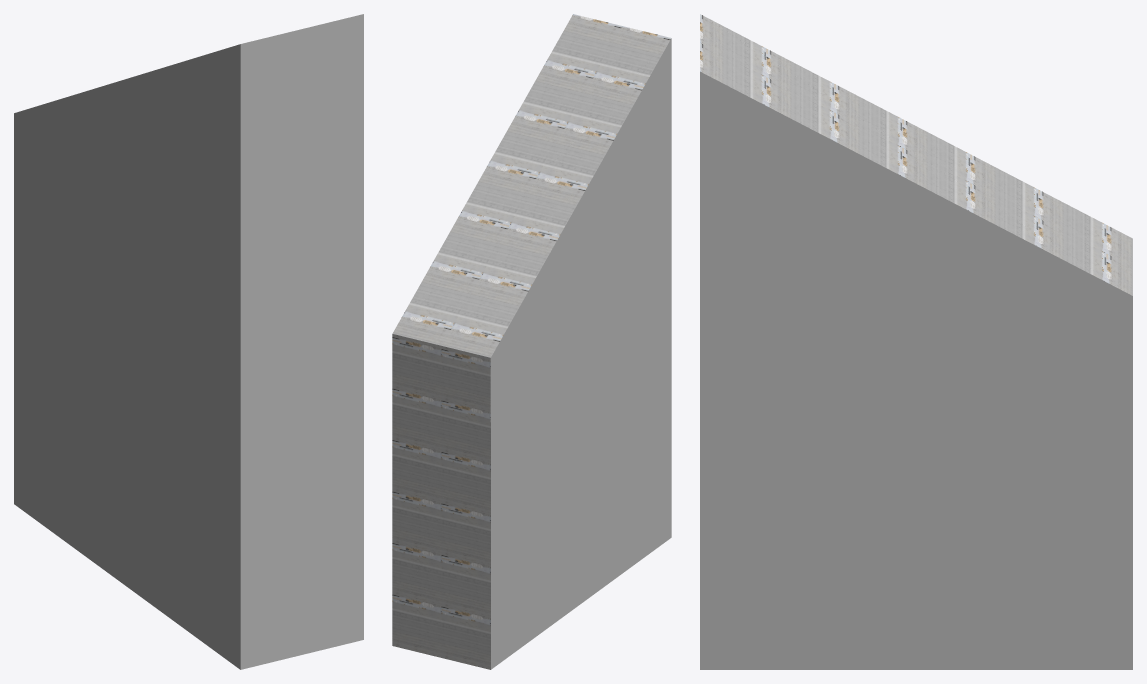
The model's file is Brush_2_AsStaticMesh.fbx.
3 renders of one model, left to right at view 1: azimuth 30°, elevation 25°; view 2: azimuth 150°, elevation 25°; view 3: azimuth 270°, elevation 25°, orthographic. The views are drawn at different scales.
Visible parts, largest first — view 1: Brush_2_AsStaticMesh_LOD0; view 2: Brush_2_AsStaticMesh_LOD0; view 3: Brush_2_AsStaticMesh_LOD0.
Boxes of the visible parts, x1=… form: Brush_2_AsStaticMesh_LOD0: x1=14, y1=14, x2=363, y2=669; Brush_2_AsStaticMesh_LOD0: x1=392, y1=14, x2=671, y2=669; Brush_2_AsStaticMesh_LOD0: x1=700, y1=14, x2=1132, y2=669.
Size of the model in its own units: 200 by 636 by 970.
